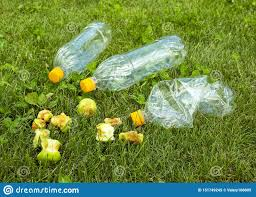plastic_bottle: (79, 36, 187, 94), (129, 77, 234, 135), (49, 22, 111, 81)
